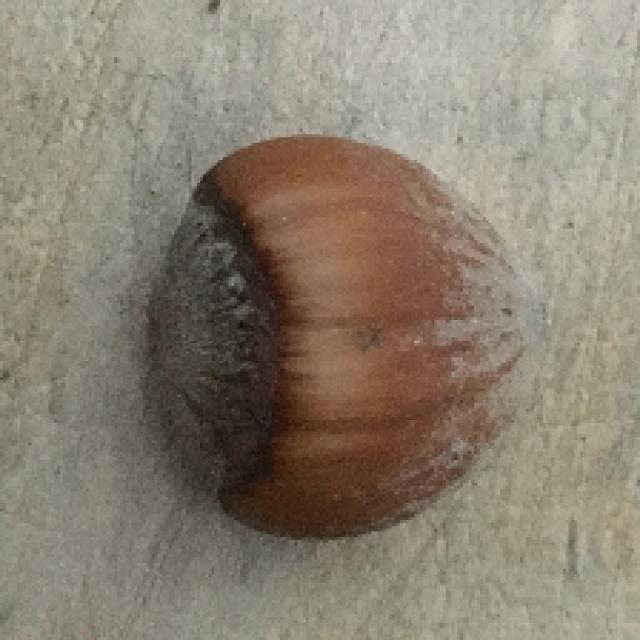damagedHazelnut: (145, 139, 560, 548)
